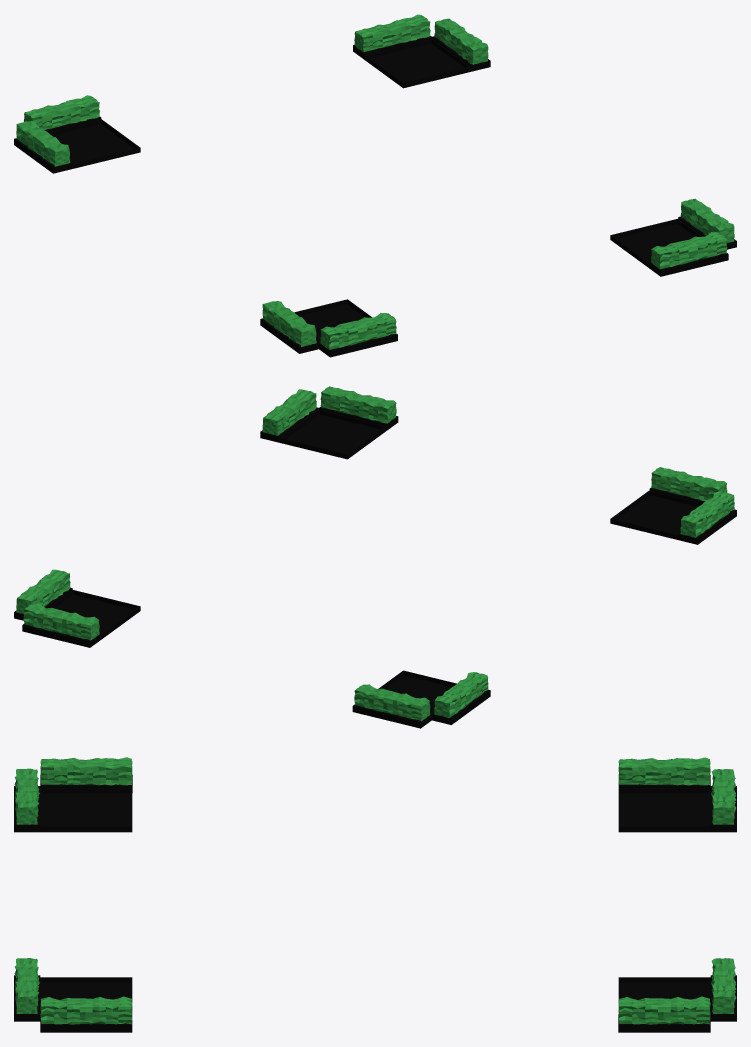
File: Objetos_Hall_SegundoAndar.gltf
3 views of the same model, one above another, from view 1: azimuth 30°, elevation 25°; view 2: azimuth 150°, elevation 25°; view 3: azimuth 270°, elevation 25° (orthographic). The views are drawn at different scales.
Parts seen in each view (by area): view 1: FonteHall.002, FonteHall.001, FonteHall.003, FonteHall.004; view 2: FonteHall.003, FonteHall.004, FonteHall.002, FonteHall.001; view 3: FonteHall.004, FonteHall.001, FonteHall.002, FonteHall.003.
Boxes of the visible parts, x1,y1,x2,y2 form: FonteHall.002: [353, 14, 490, 88]; FonteHall.001: [14, 95, 140, 173]; FonteHall.003: [610, 198, 736, 276]; FonteHall.004: [260, 299, 397, 357]; FonteHall.003: [260, 386, 398, 459]; FonteHall.004: [610, 467, 736, 544]; FonteHall.002: [14, 569, 140, 647]; FonteHall.001: [352, 670, 490, 728]; FonteHall.004: [14, 757, 132, 832]; FonteHall.001: [618, 757, 736, 832]; FonteHall.002: [618, 958, 736, 1032]; FonteHall.003: [14, 958, 132, 1032].
Bounding box in the file's own units: 14.58 × 0.7229 × 17.78.
1 material, 1 textured.
